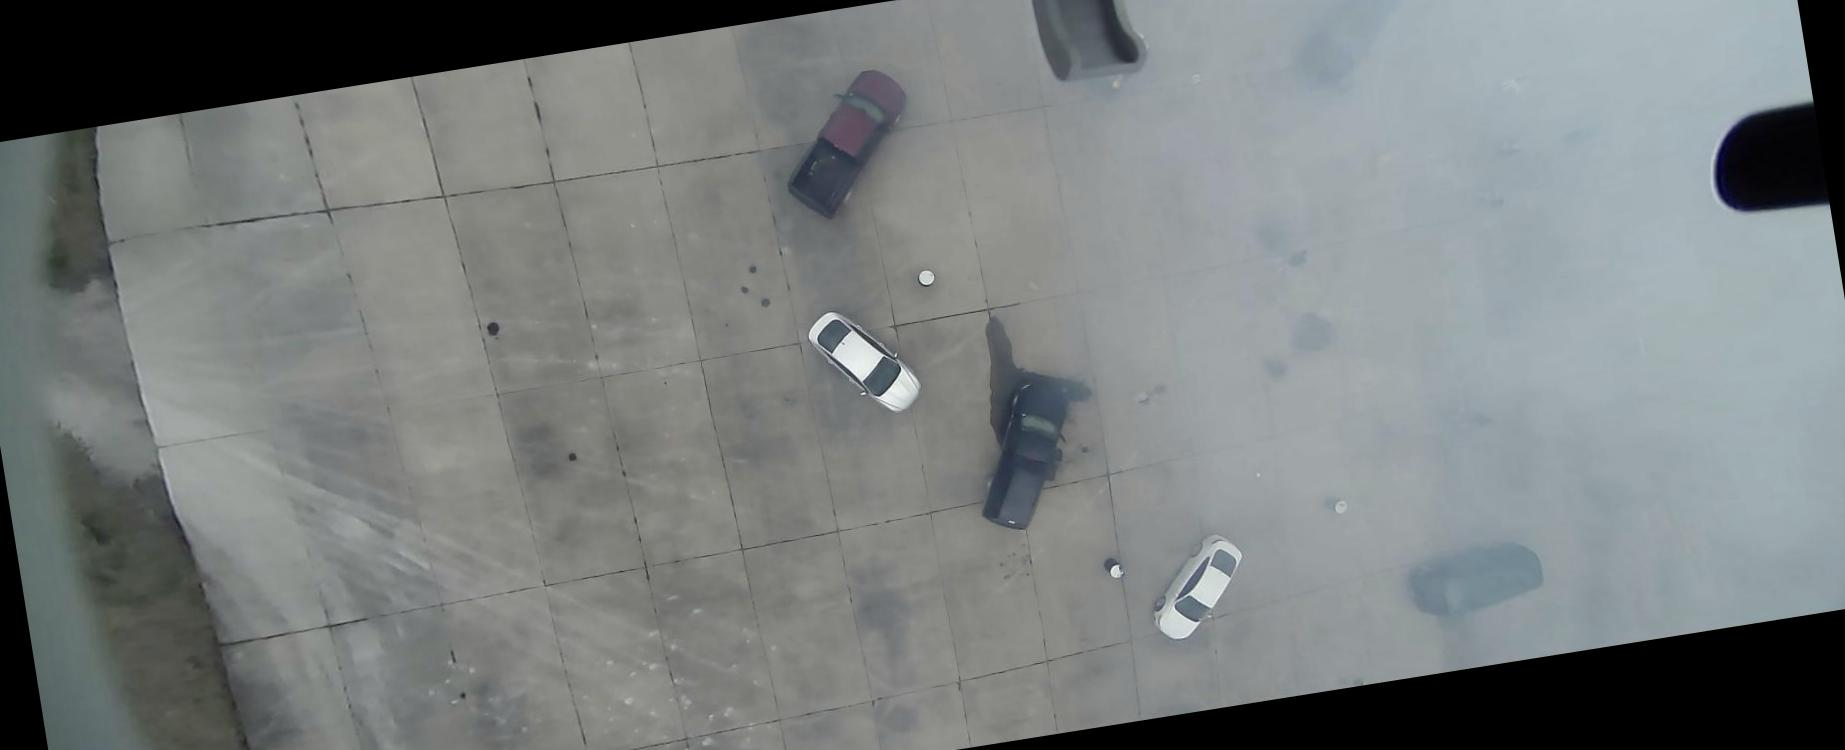vehicle: (771, 66, 922, 225), (961, 374, 1088, 537), (805, 299, 926, 425), (1281, 0, 1440, 93), (1141, 529, 1255, 644), (1405, 537, 1545, 620), (1074, 26, 1155, 100)
